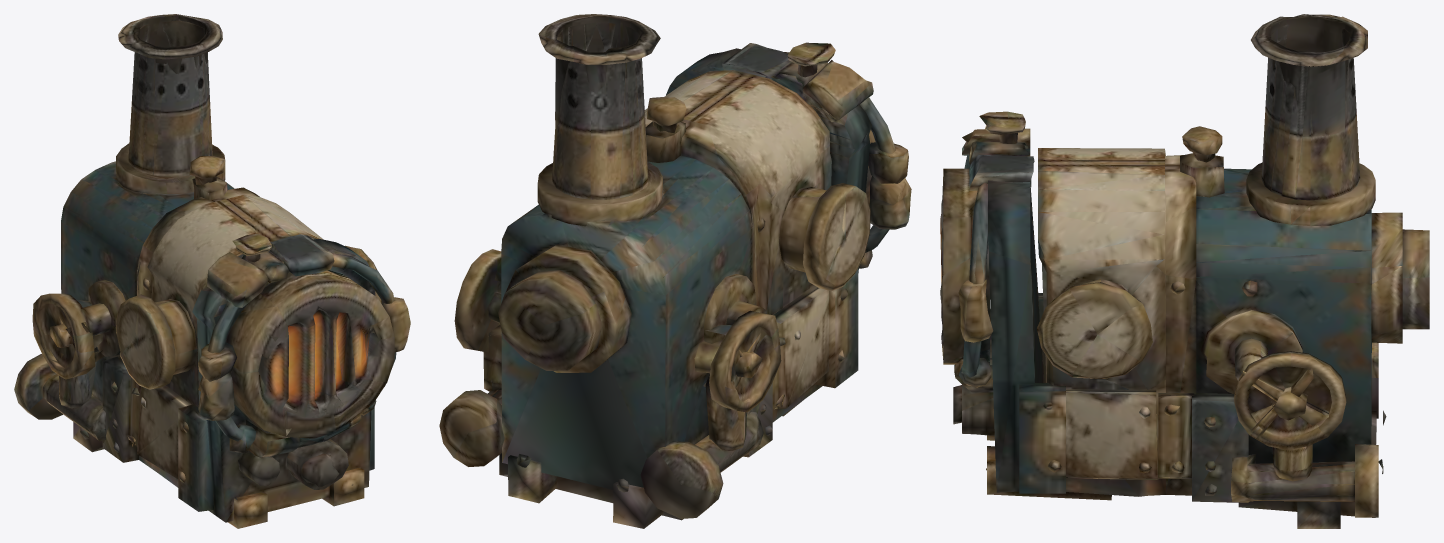
Rendered from vehicle_sled_engine.glb.
The picture shows the model from 3 angles, left to right: view 1: azimuth 30°, elevation 25°; view 2: azimuth 150°, elevation 25°; view 3: azimuth 270°, elevation 25°; orthographic projection. The views are drawn at different scales.
Bounding box in the file's own units: 0.1465 × 0.228 × 0.2202.
Materials: 1 (1 with a texture image).
